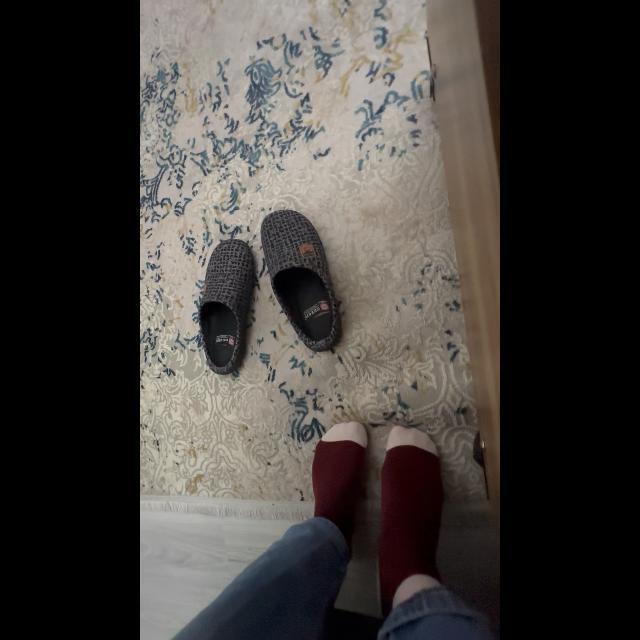slipper: (255, 206, 353, 356), (193, 238, 261, 380)
